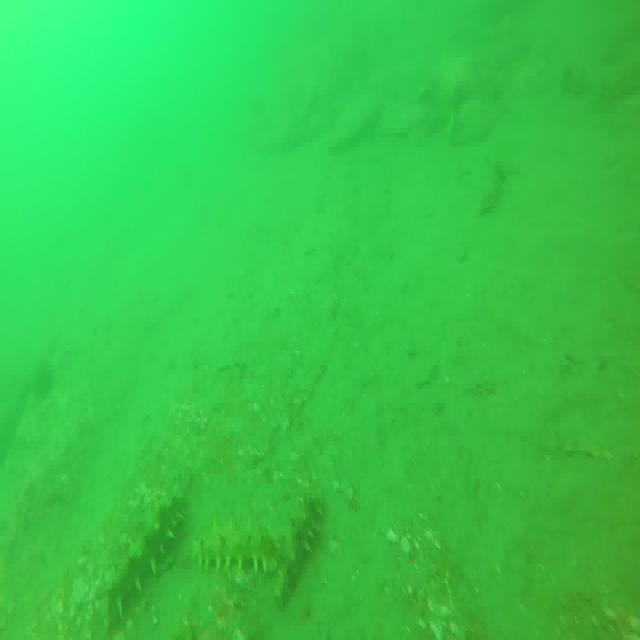holothurian: (103, 497, 187, 638), (271, 495, 328, 604), (191, 522, 280, 577)
